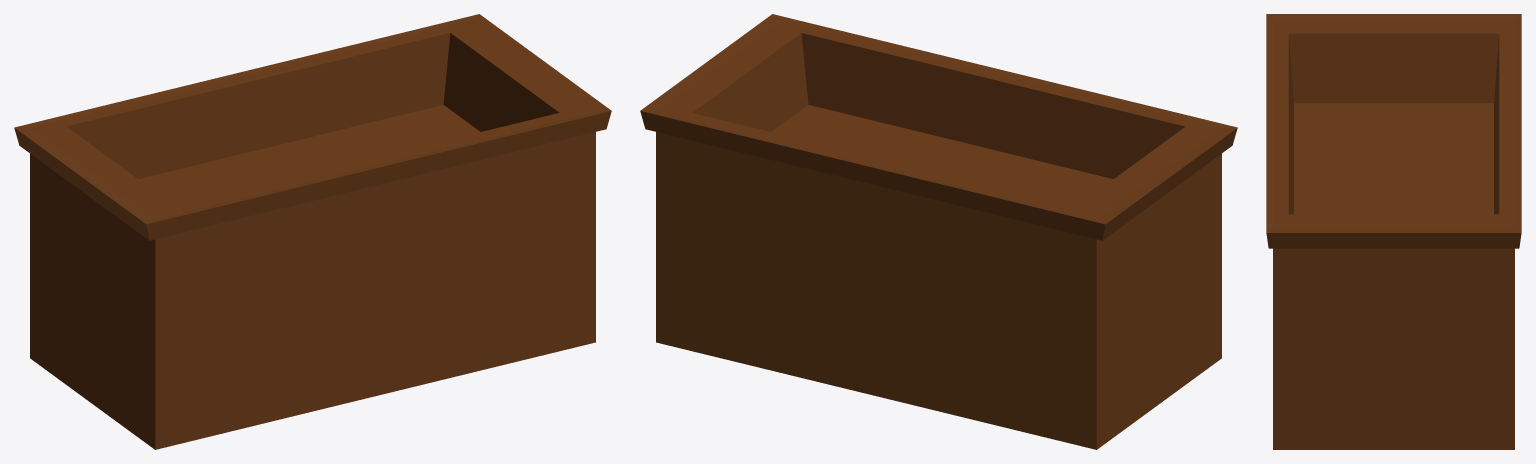
Rendered from macetero_1.fbx.
3 views of the same model, side by side, from view 1: azimuth 30°, elevation 25°; view 2: azimuth 150°, elevation 25°; view 3: azimuth 270°, elevation 25° (orthographic). The views are drawn at different scales.
Parts seen in each view (by area): view 1: Cubo; view 2: Cubo; view 3: Cubo.
Part boxes in pixels (x1=…): Cubo: x1=14, y1=14, x2=611, y2=449; Cubo: x1=640, y1=14, x2=1237, y2=449; Cubo: x1=1266, y1=14, x2=1521, y2=449.
Size of the model in its own units: 52.78 by 25.05 by 26.
